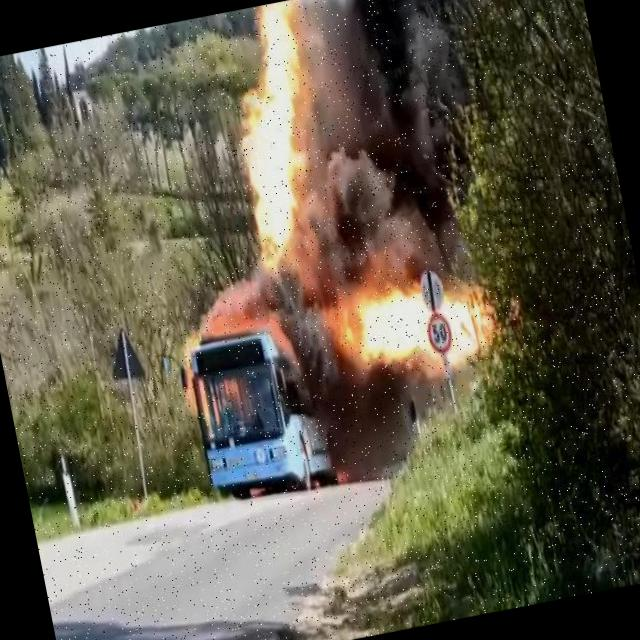Fire: (210, 0, 333, 245), (338, 264, 528, 386), (187, 267, 316, 378)
Smoke: (300, 0, 586, 276)
